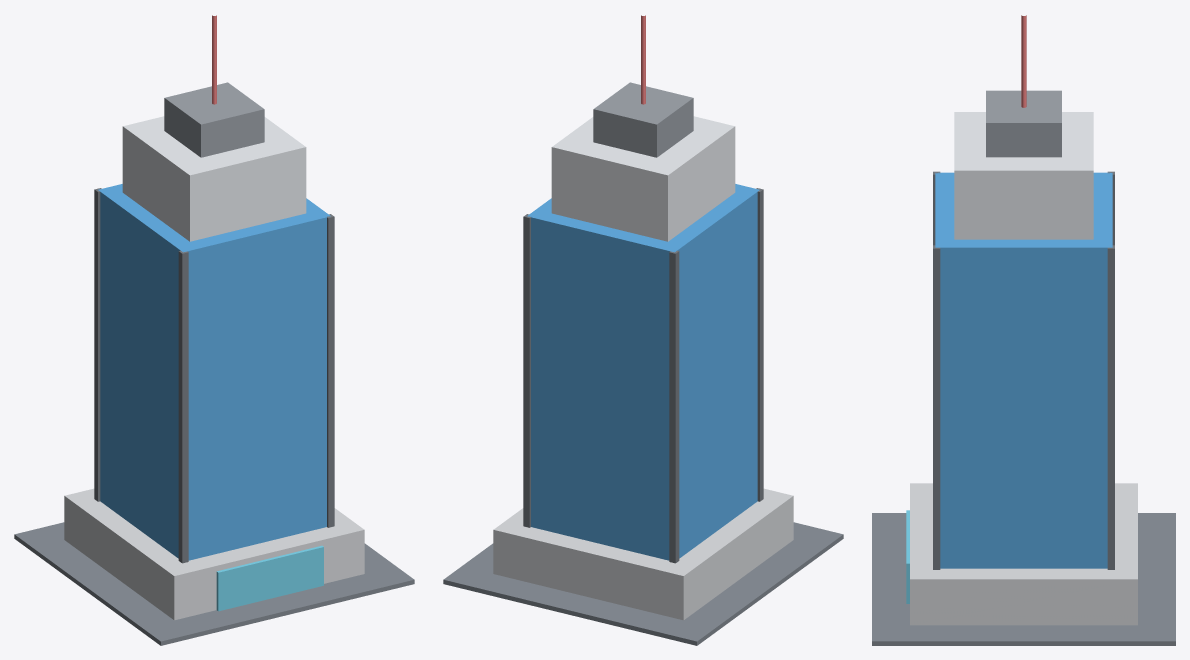
The model's file is mira_commercial_tower.glb.
3 views of the same model, side by side, from view 1: azimuth 30°, elevation 25°; view 2: azimuth 150°, elevation 25°; view 3: azimuth 270°, elevation 25° (orthographic). The views are drawn at different scales.
Parts seen in each view (by area): view 1: TowerGlassFacade, PenthouseCrown, CommercialPodium, PlazaPavement, RoofPlantRoom, GlassAtrium, CornerSteel4, CornerSteel3, CornerSteel1; view 2: TowerGlassFacade, CommercialPodium, PenthouseCrown, PlazaPavement, RoofPlantRoom, CornerSteel1, CornerSteel2, CornerSteel4; view 3: TowerGlassFacade, CommercialPodium, PlazaPavement, PenthouseCrown, RoofPlantRoom, CornerSteel2, CornerSteel3, TelecomMast.
Part boxes in pixels (bbox=[...]): TowerGlassFacade: bbox=[98, 184, 330, 560]; PenthouseCrown: bbox=[122, 116, 306, 241]; CommercialPodium: bbox=[64, 488, 364, 620]; PlazaPavement: bbox=[14, 522, 414, 645]; RoofPlantRoom: bbox=[164, 82, 264, 157]; GlassAtrium: bbox=[216, 545, 323, 611]; CornerSteel4: bbox=[178, 250, 188, 563]; CornerSteel3: bbox=[327, 214, 334, 527]; CornerSteel1: bbox=[94, 188, 101, 501]; TowerGlassFacade: bbox=[527, 184, 759, 560]; CommercialPodium: bbox=[493, 488, 793, 620]; PenthouseCrown: bbox=[551, 116, 735, 241]; PlazaPavement: bbox=[443, 522, 843, 645]; RoofPlantRoom: bbox=[593, 82, 693, 157]; CornerSteel1: bbox=[669, 250, 679, 563]; CornerSteel2: bbox=[523, 214, 530, 527]; CornerSteel4: bbox=[756, 188, 763, 501]; TowerGlassFacade: bbox=[935, 172, 1112, 568]; CommercialPodium: bbox=[910, 483, 1137, 625]; PlazaPavement: bbox=[872, 513, 1175, 645]; PenthouseCrown: bbox=[954, 112, 1093, 239]; RoofPlantRoom: bbox=[986, 90, 1061, 157]; CornerSteel2: bbox=[1107, 245, 1114, 569]; CornerSteel3: bbox=[933, 245, 940, 569]; TelecomMast: bbox=[1021, 15, 1026, 107].
Size of the model in its own units: 24 by 49.4 by 24.
